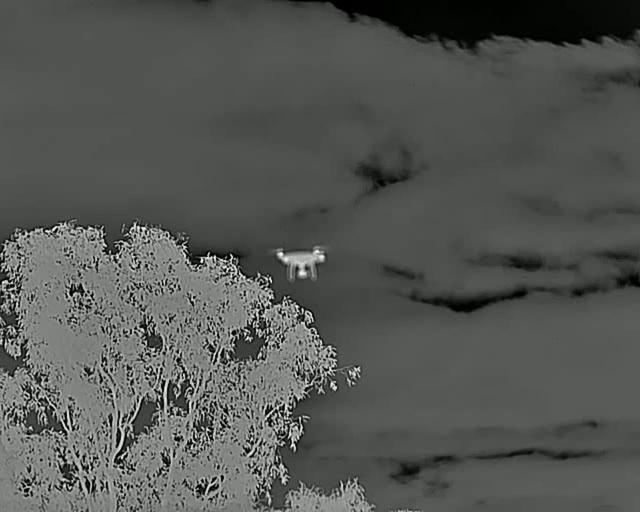DJI-Phantom: (274, 247, 328, 282)
